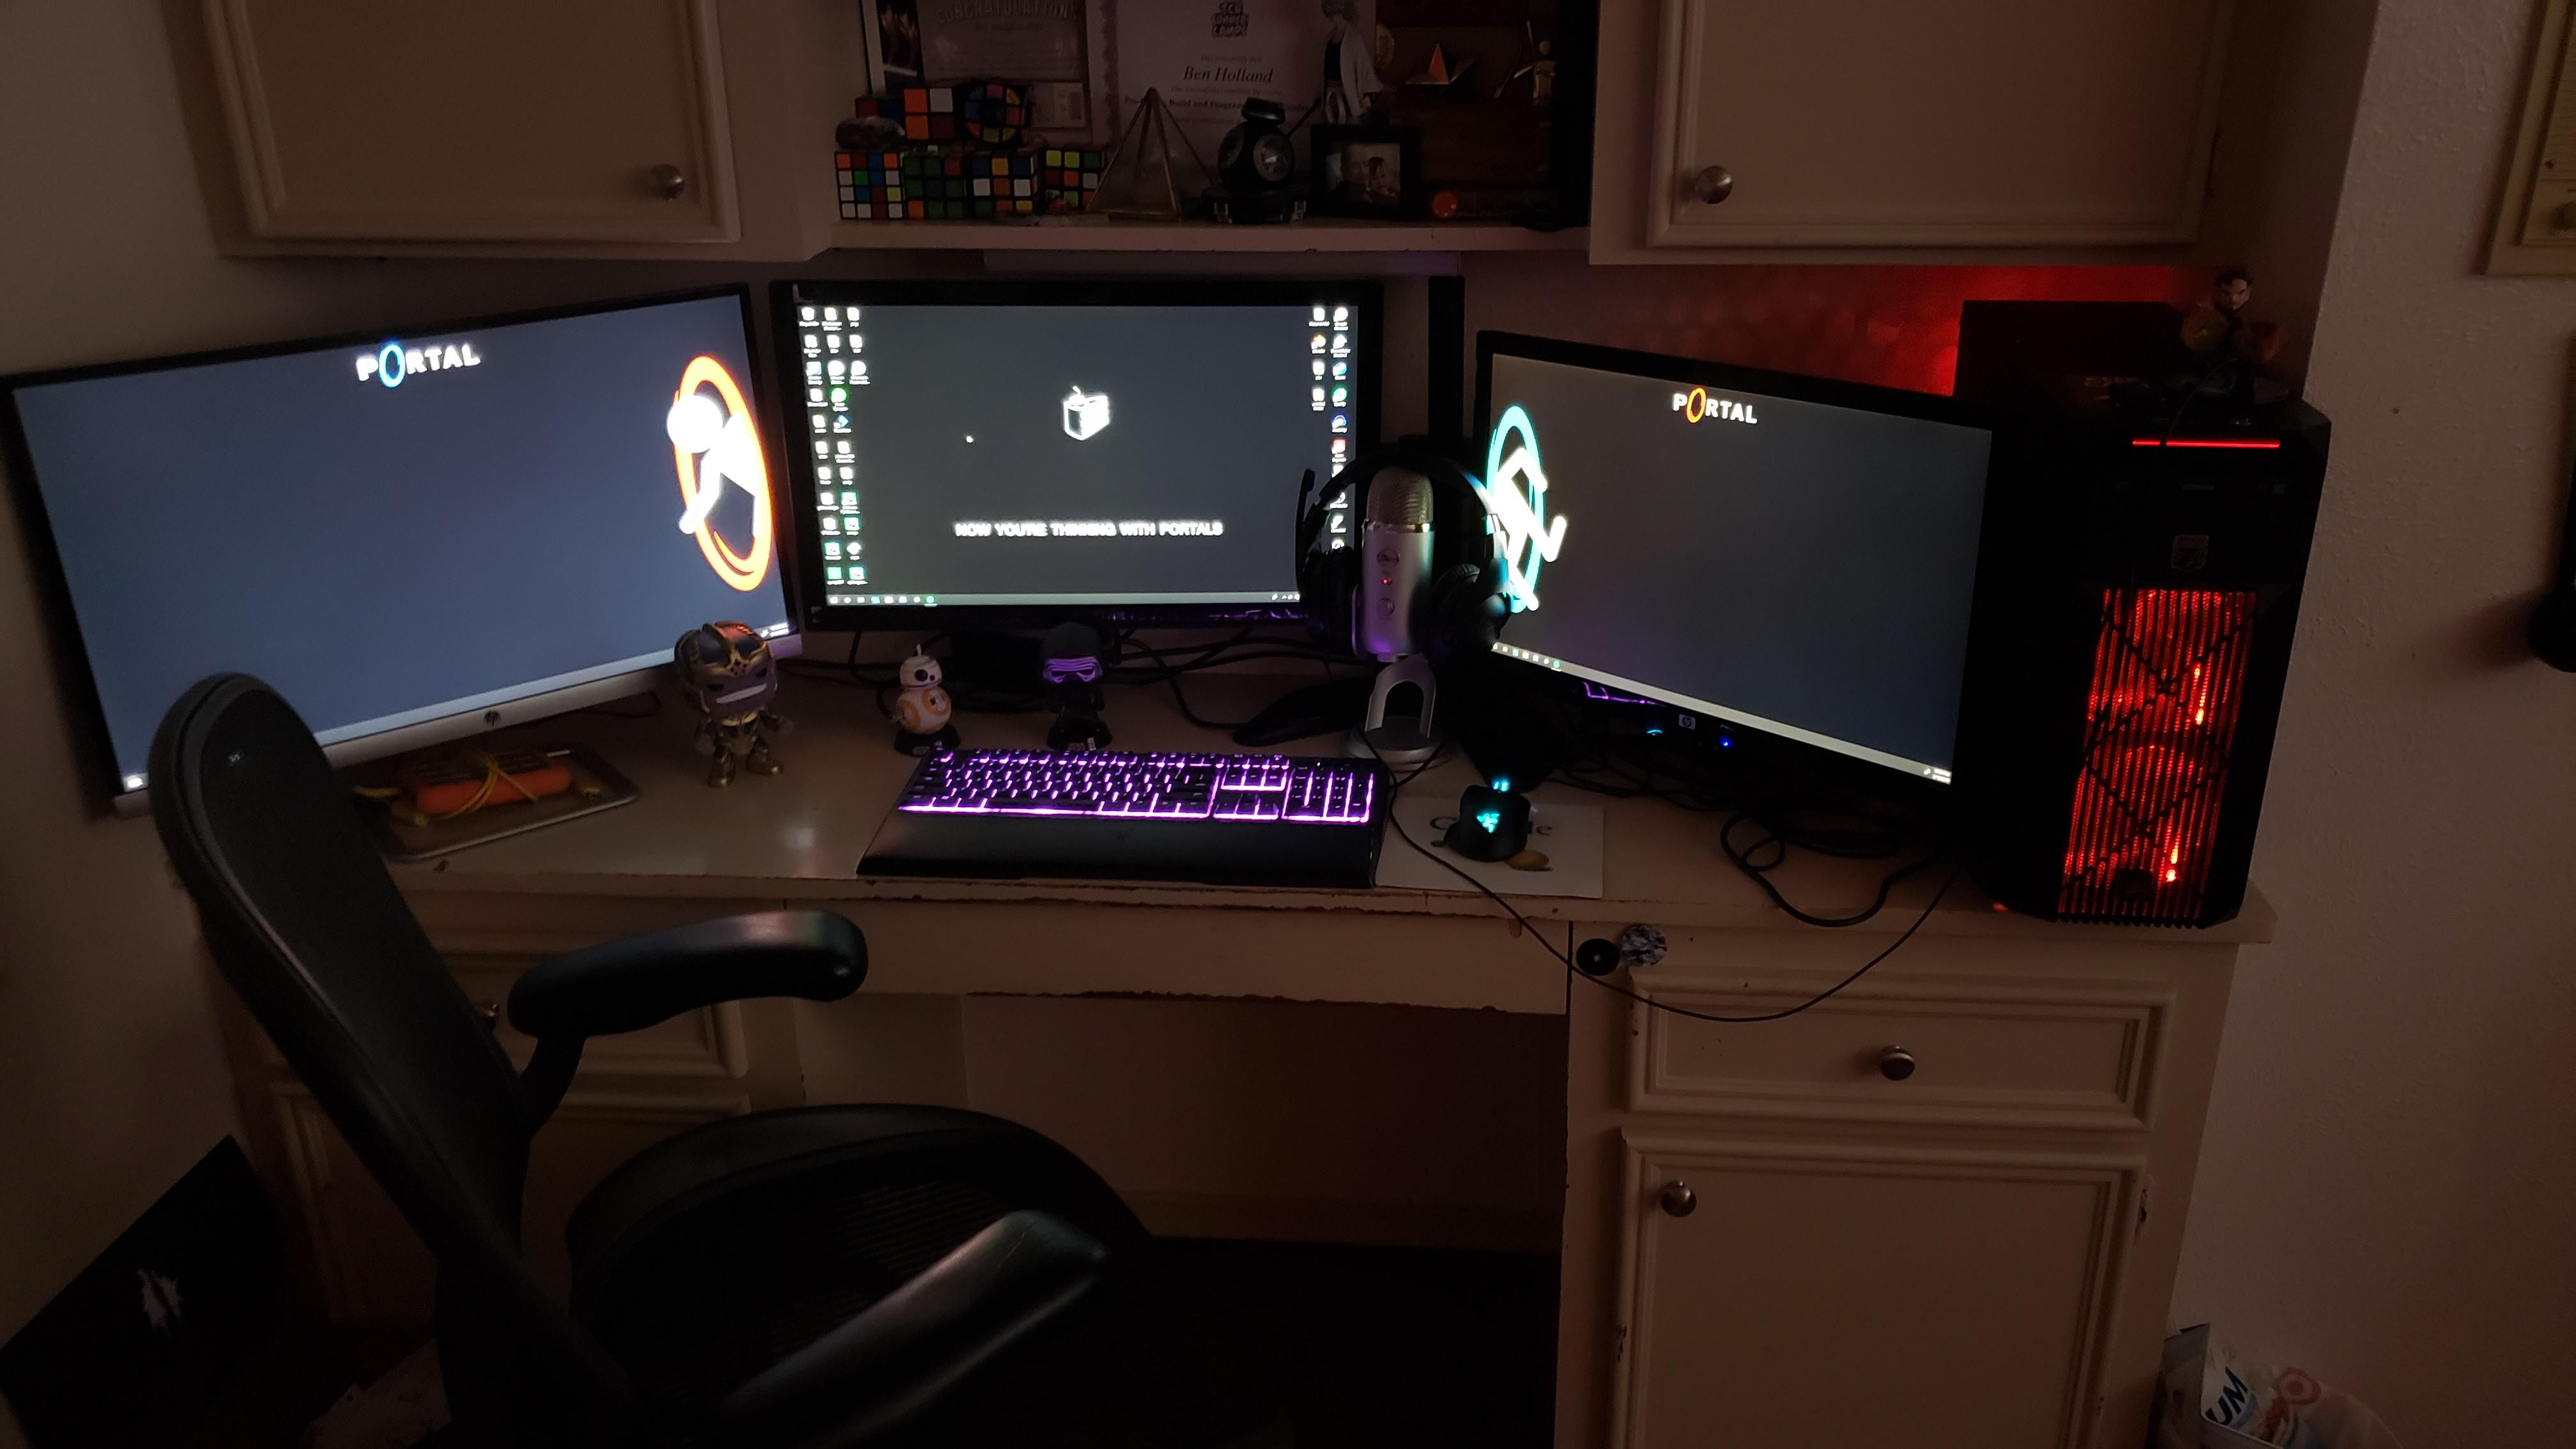Chair (Generic): (143, 665, 1200, 1428)
Decoration (Miniature): (665, 619, 1122, 786)
Decoration (Picture): (1306, 119, 1431, 225)
Decoration (Rubric's Cube): (2176, 272, 2286, 423), (824, 145, 918, 235), (901, 145, 968, 228), (968, 147, 1042, 219), (1039, 136, 1111, 209)
Desk (Generic): (73, 640, 2289, 1428)
Desktop (Windows): (1941, 290, 2337, 957)
External Microphone (Generic): (1345, 464, 1451, 768)
Headphones (with Microphone): (1272, 423, 1474, 663)
Keyboard (Gaming): (876, 725, 1405, 906)
Monitor (Landscape): (0, 276, 817, 823), (1447, 301, 2019, 837), (759, 269, 1391, 653)
Mouse (Gaming): (1424, 764, 1541, 865)
Mousepad (Generic): (1378, 780, 1624, 908)
